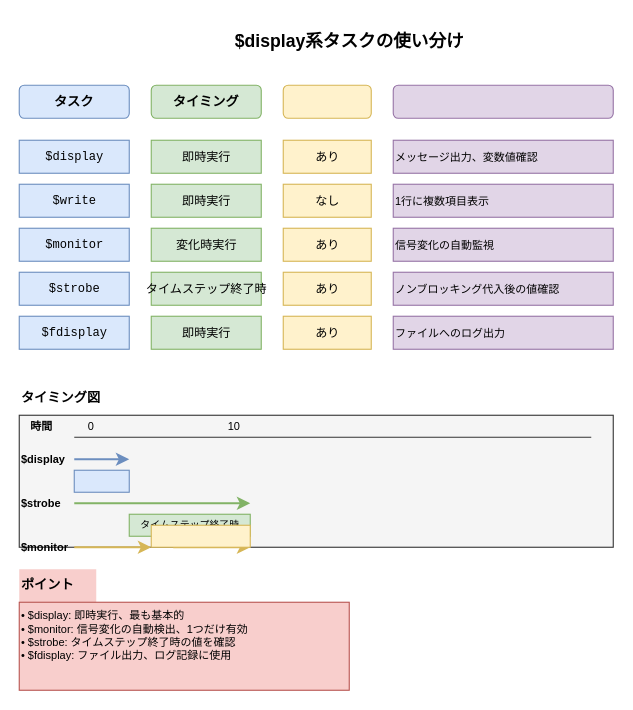
The diagram is 633 pixels wide and 710 high, and some of its shapes have lost their labels. Here are the shapes that lost their labels. From the top down, the centre of each, then its label:
At [326,101]: "改行".
At [502,101]: "主な用途".
At [101,480]: "即時".
At [200,535]: "信号変化のたび".
